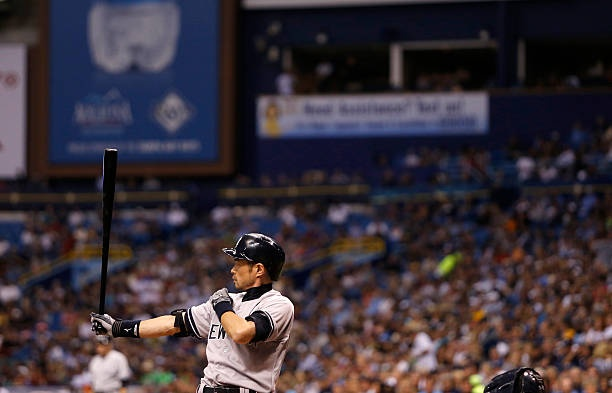bita: (92, 148, 118, 325)
